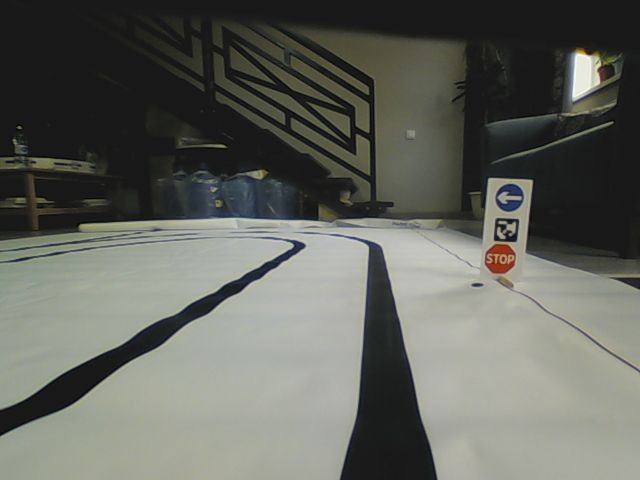Stop: (483, 242, 518, 276)
